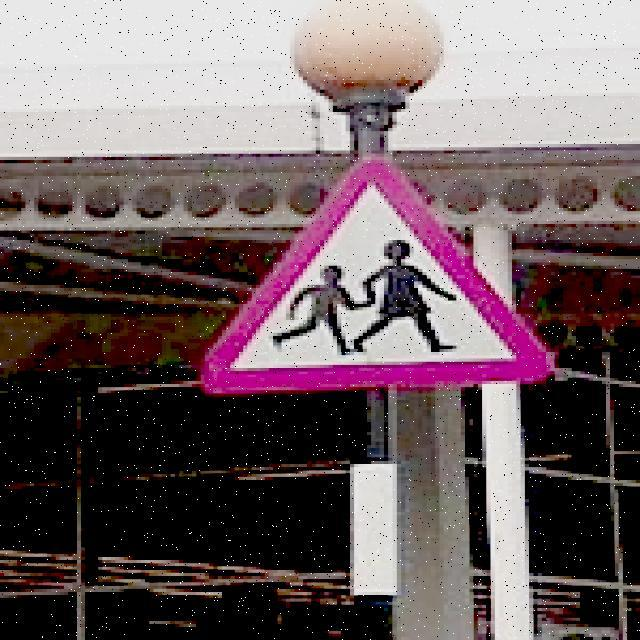Traffic sign: (190, 146, 564, 406)
